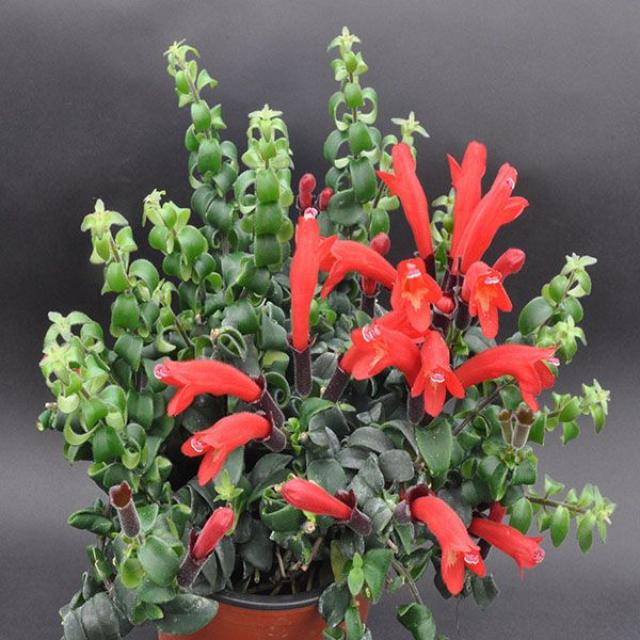Lipstick-Plant: (142, 227, 433, 553), (342, 118, 586, 436)
